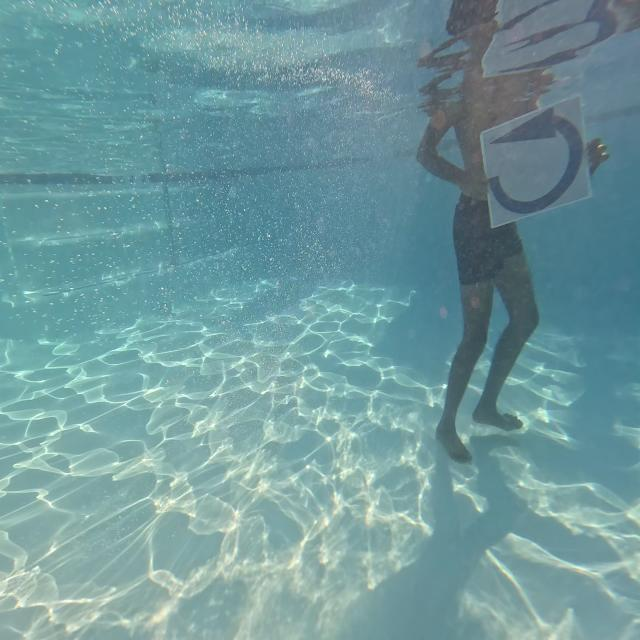blue_side: (472, 85, 600, 236)
